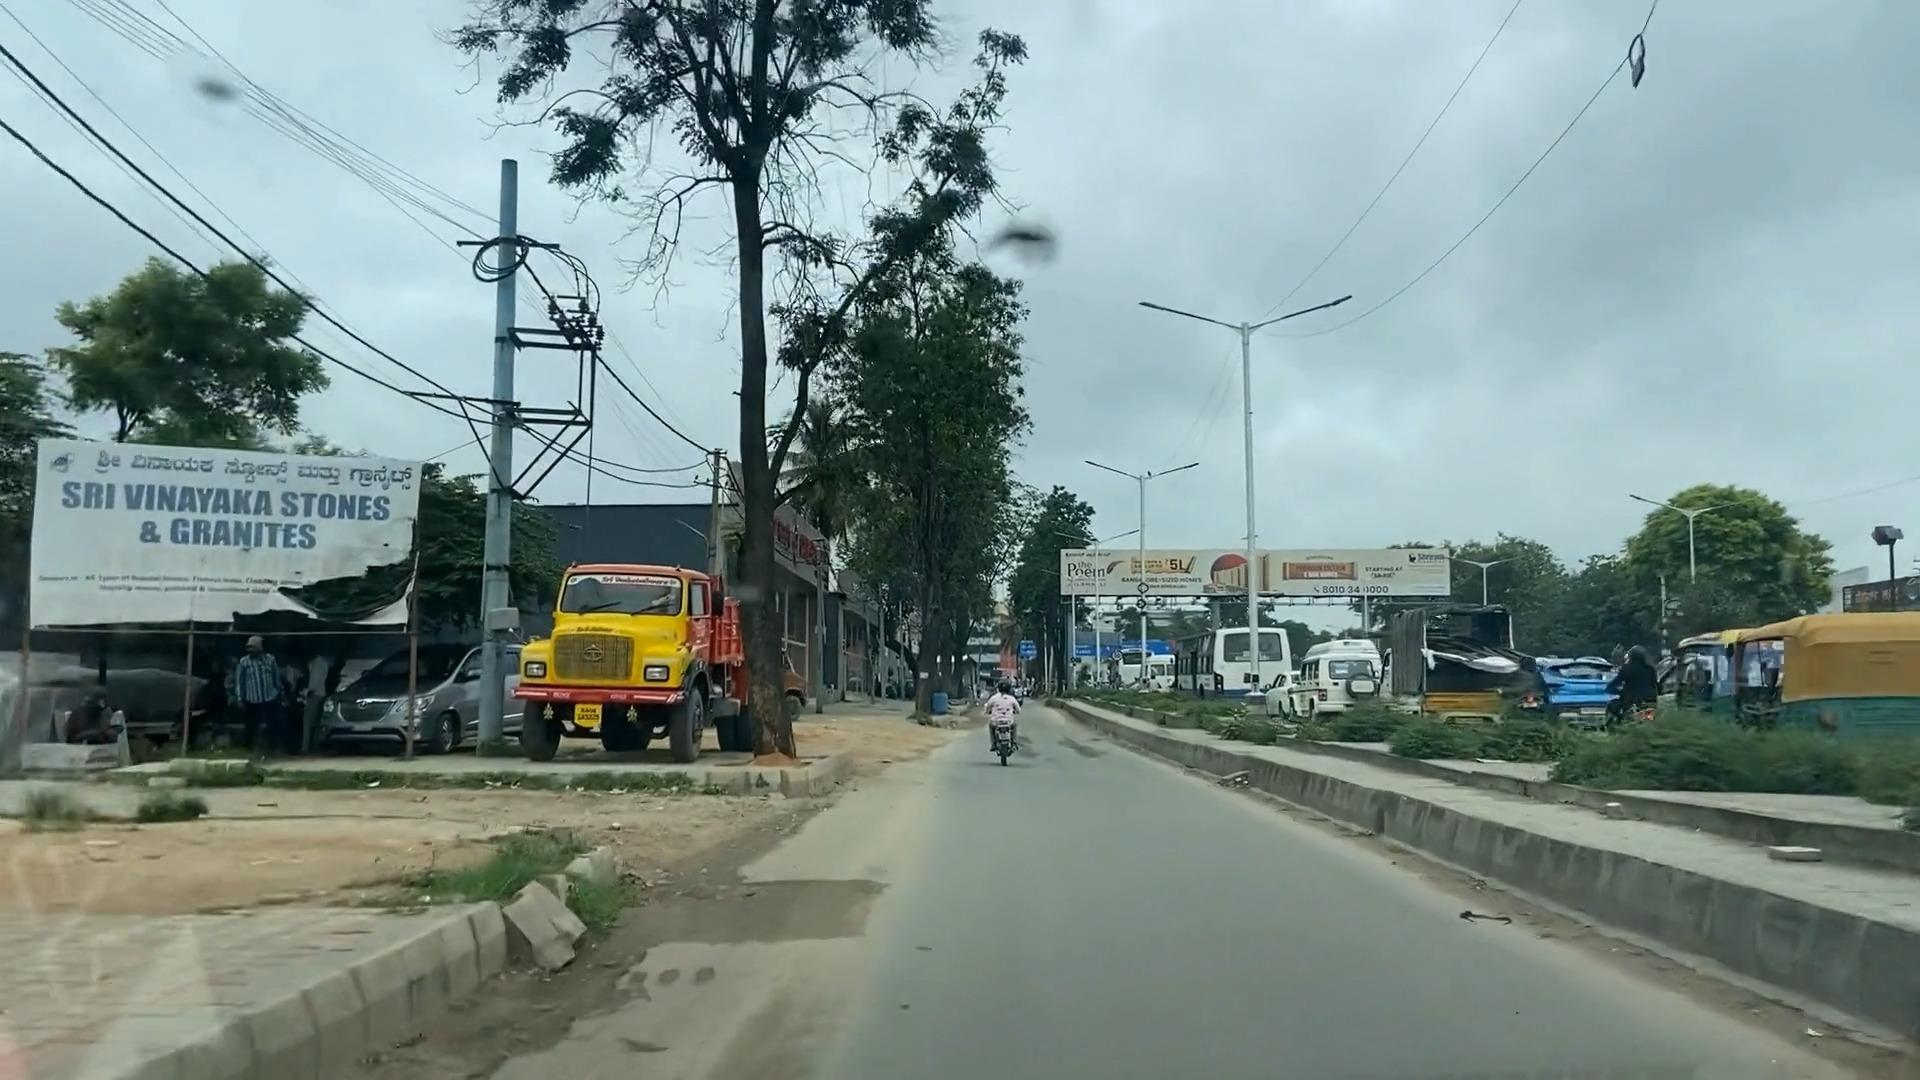RoadDamages: (618, 844, 920, 968)
